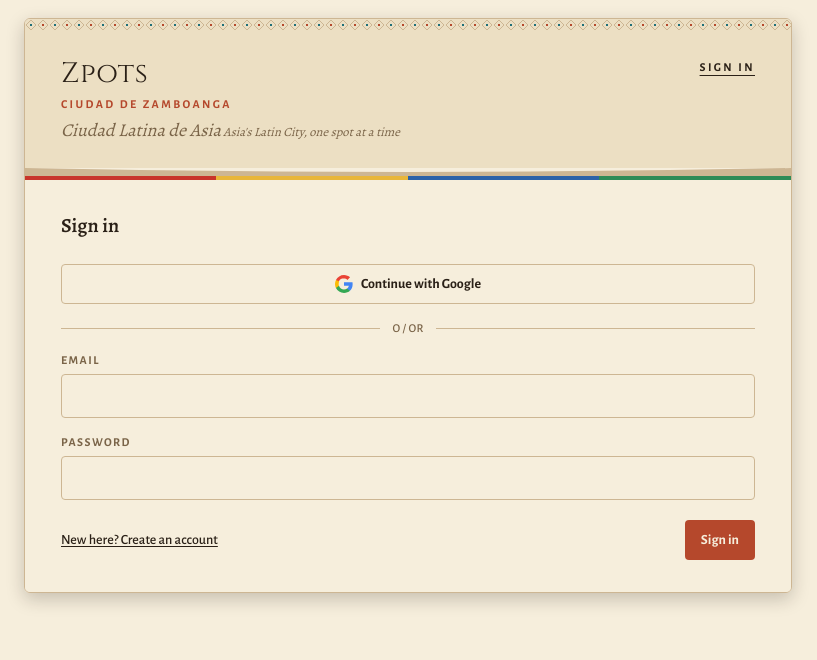
Login page -- mode › toggling mode preserves the typed email and clears any error
Type "person@example.com" into the field labelled "Email" at (408, 396), box [61, 374, 755, 418]
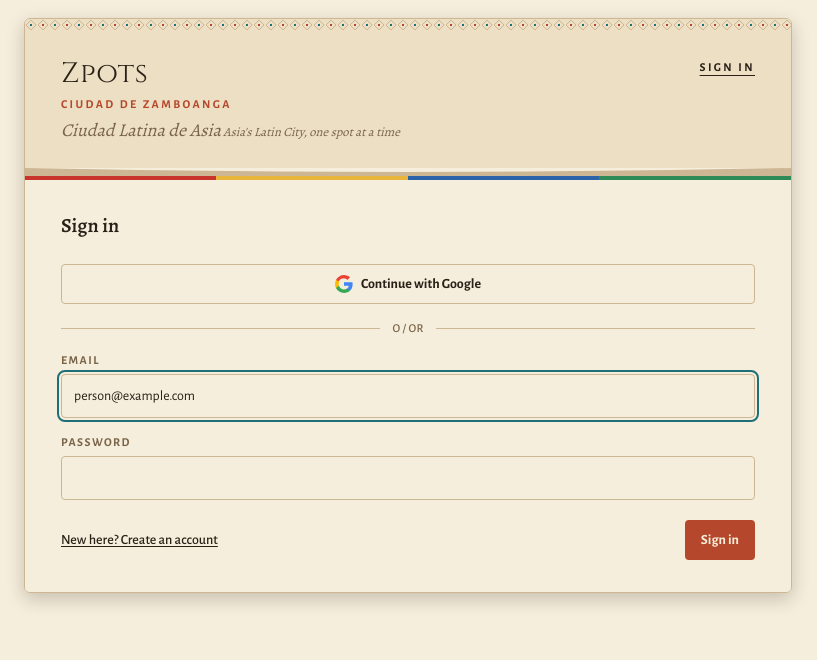
Type "wrongpass" into the password field labelled "Password" at (408, 478), box [61, 456, 755, 500]
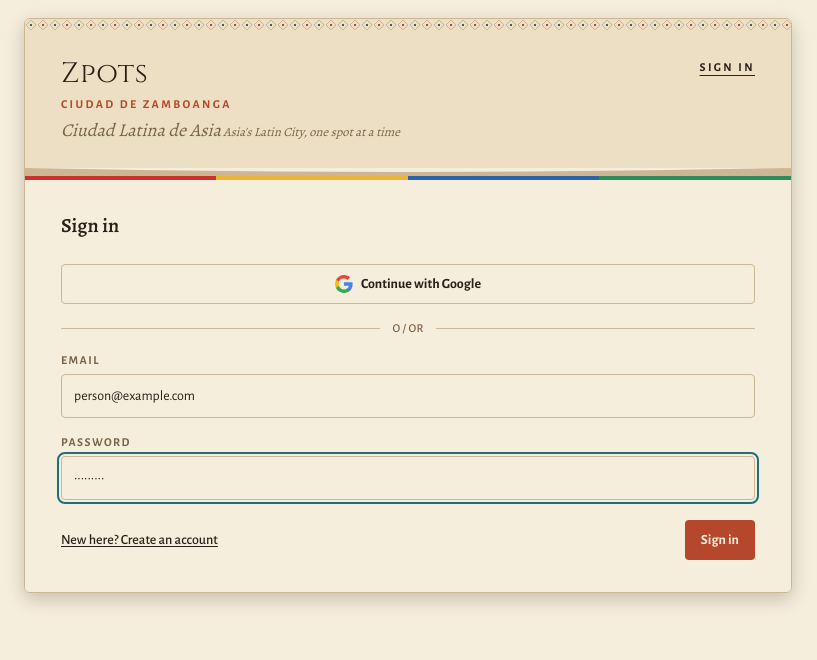
Click the button "Sign in" at (720, 540), box [685, 520, 755, 560]
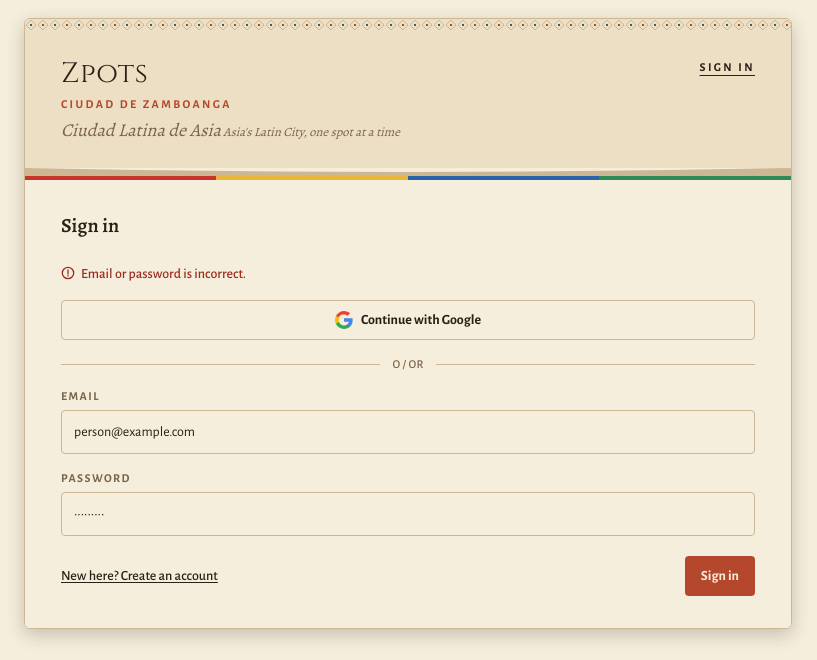
Expected: the text "Email or password is incorrect." is shown, [81, 264, 246, 284]
Click the button "New here? Create an account" at (139, 576), box [61, 566, 218, 586]
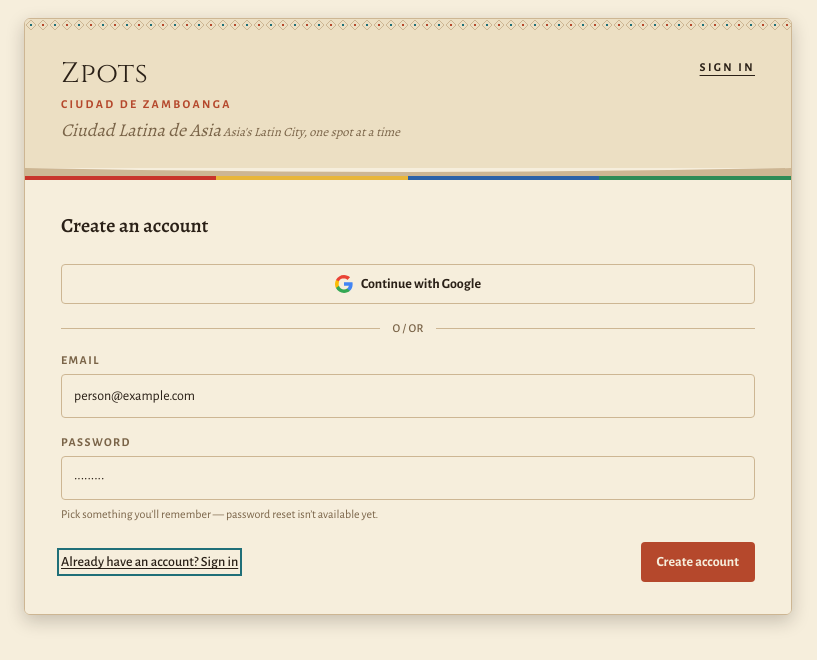
Expected: the text "incorrect" is gone
